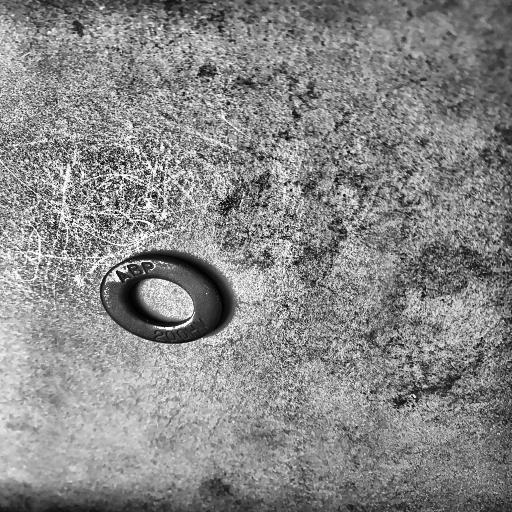Washer: (100, 253, 230, 345)
